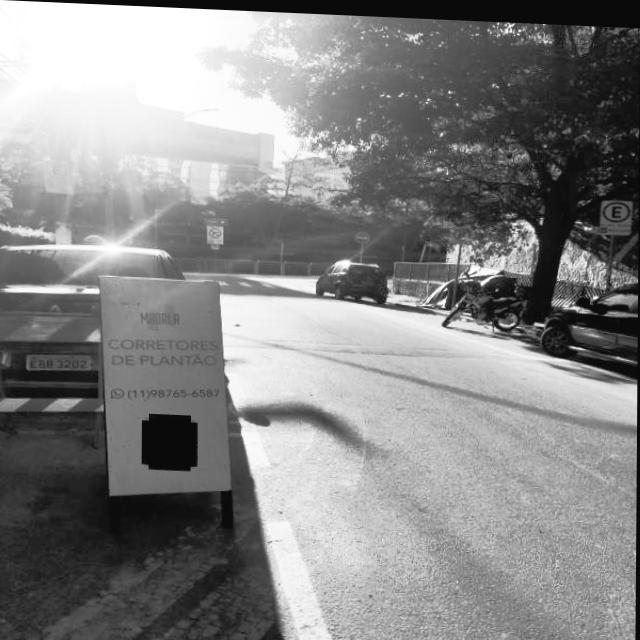qr_code: (145, 416, 196, 467)
